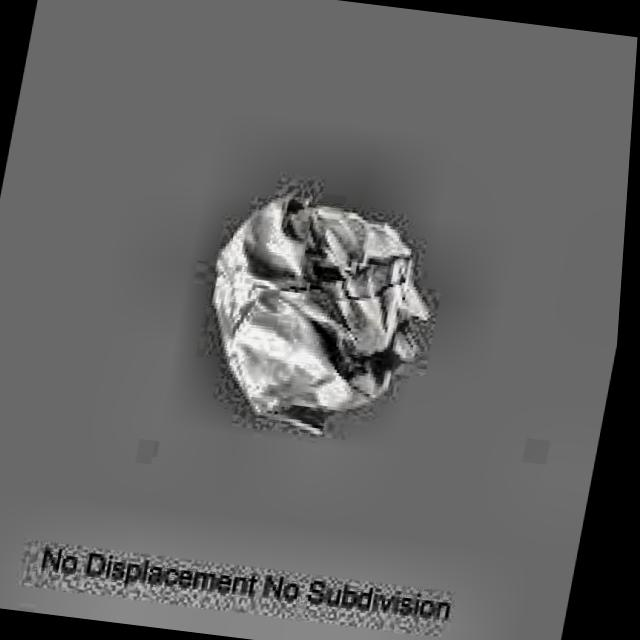Paper: (189, 180, 452, 444)
